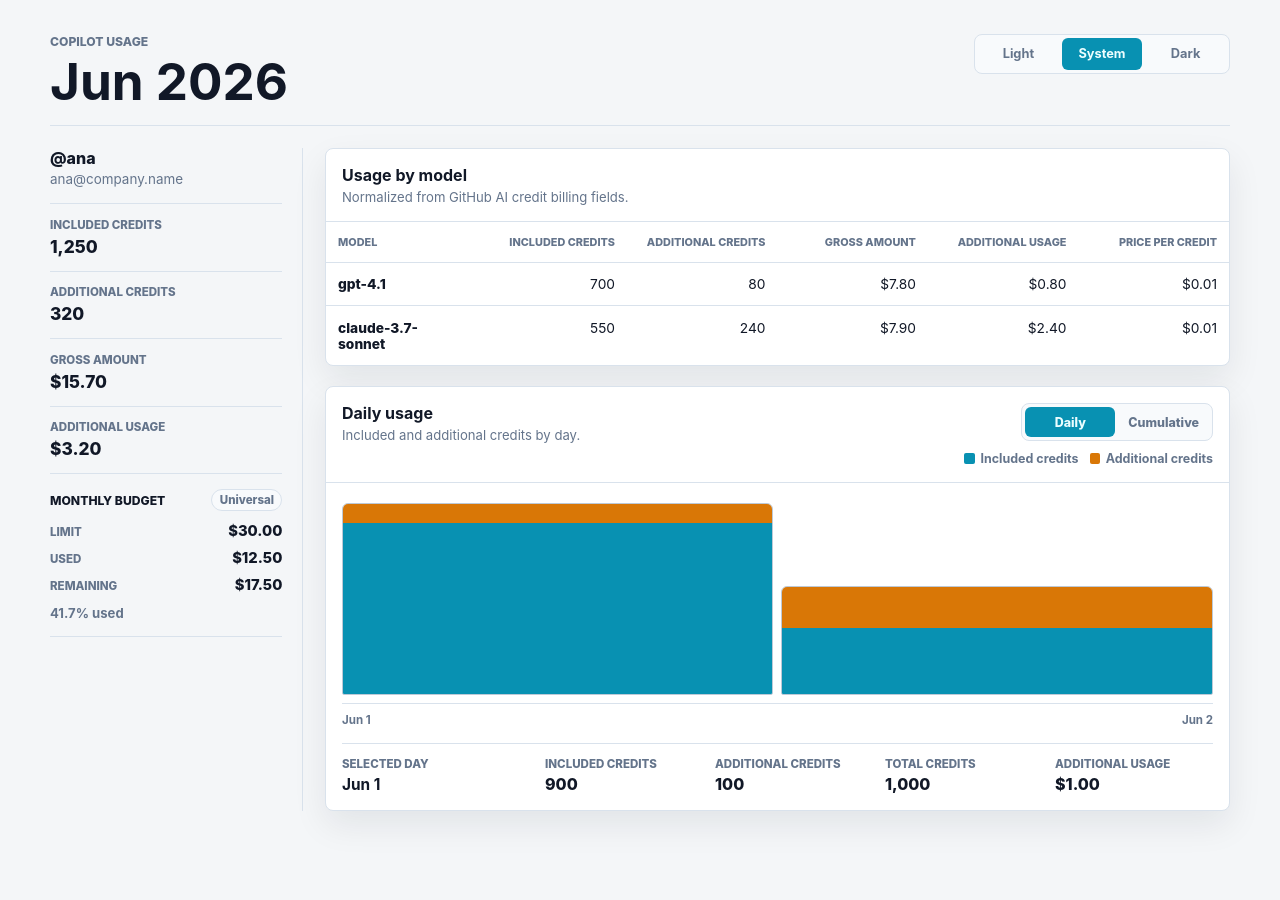
Scenario: UsageDashboard › toggles the daily chart to cumulative usage with a converted budget line
This screenshot has width=1280, height=900.
Step 1. Click the button "Cumulative" → (1164, 422), box [1119, 407, 1209, 437]
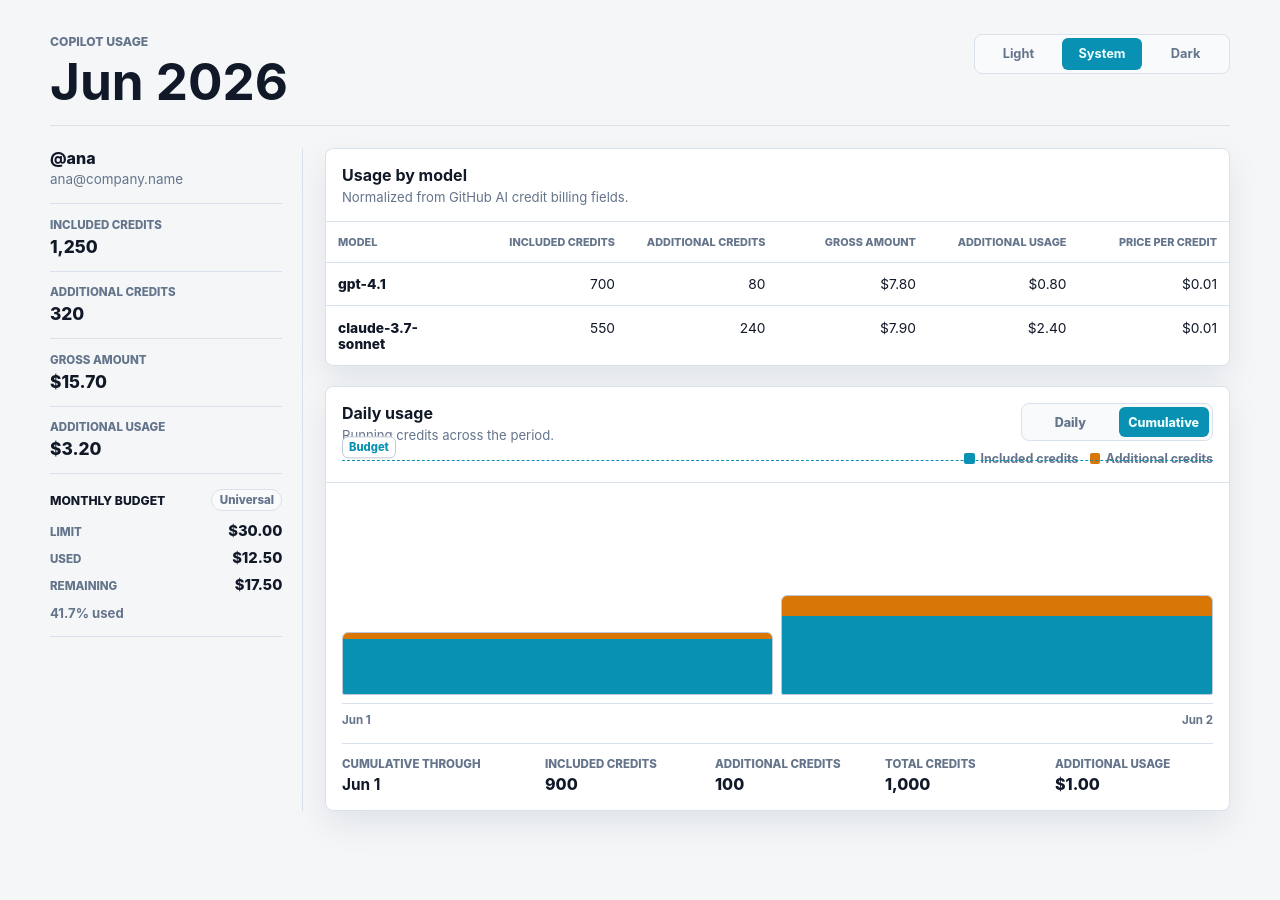
Now the text "Budget" is shown, box [342, 437, 396, 458]
Now the element named "Budget line: $30.00 monthly budget, 3,000 equivalent credits" is shown, box [342, 460, 1213, 483]
Step 2. Focus the button named "cumulative through" → (997, 645), box [782, 595, 1213, 695]
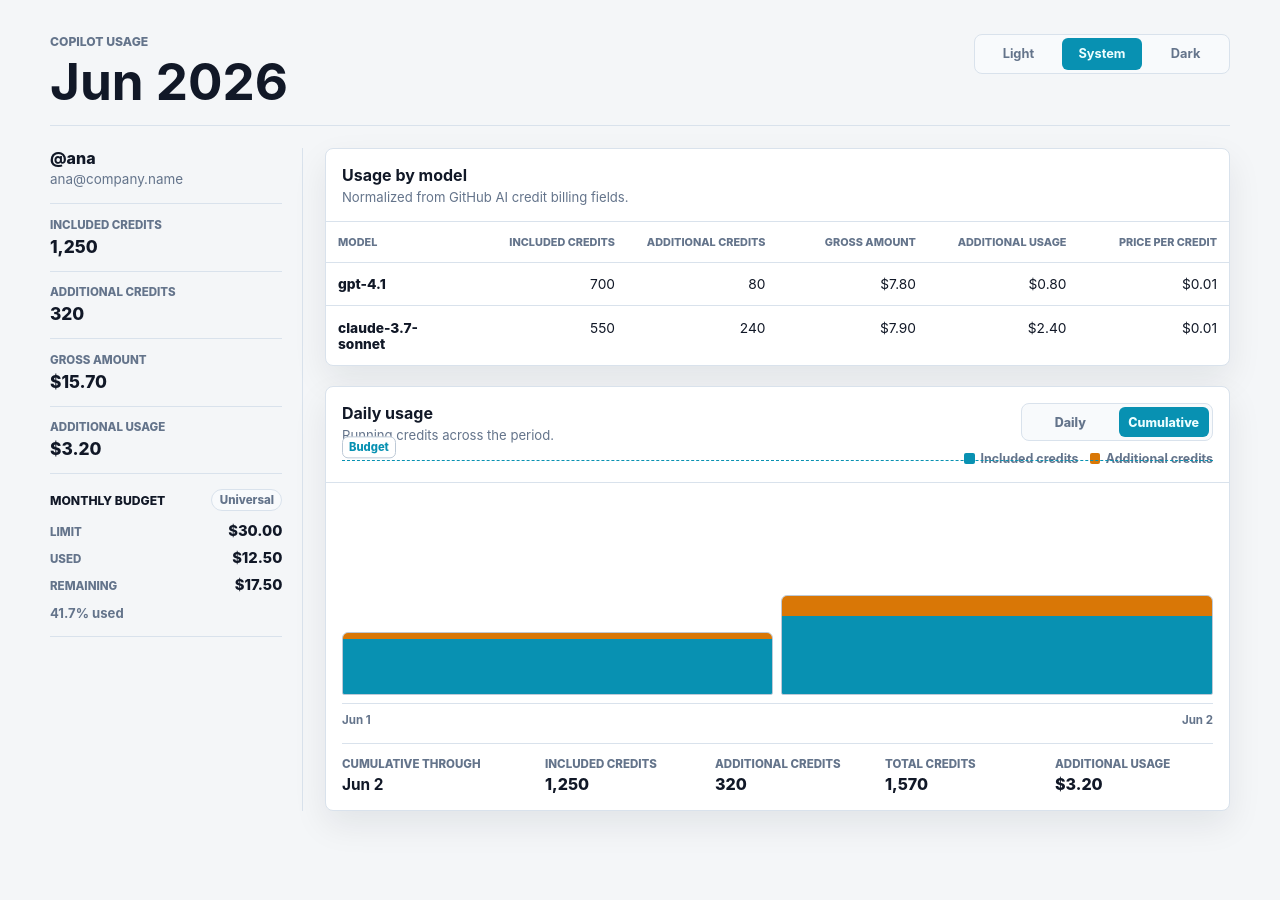
Now the text "Cumulative through" is shown, box [342, 757, 481, 771]
Now the text "Jun 2" below "Cumulative through" is shown, box [342, 775, 383, 794]
Now the text "1,250" in the row of "1,570" is shown, box [545, 774, 589, 794]
